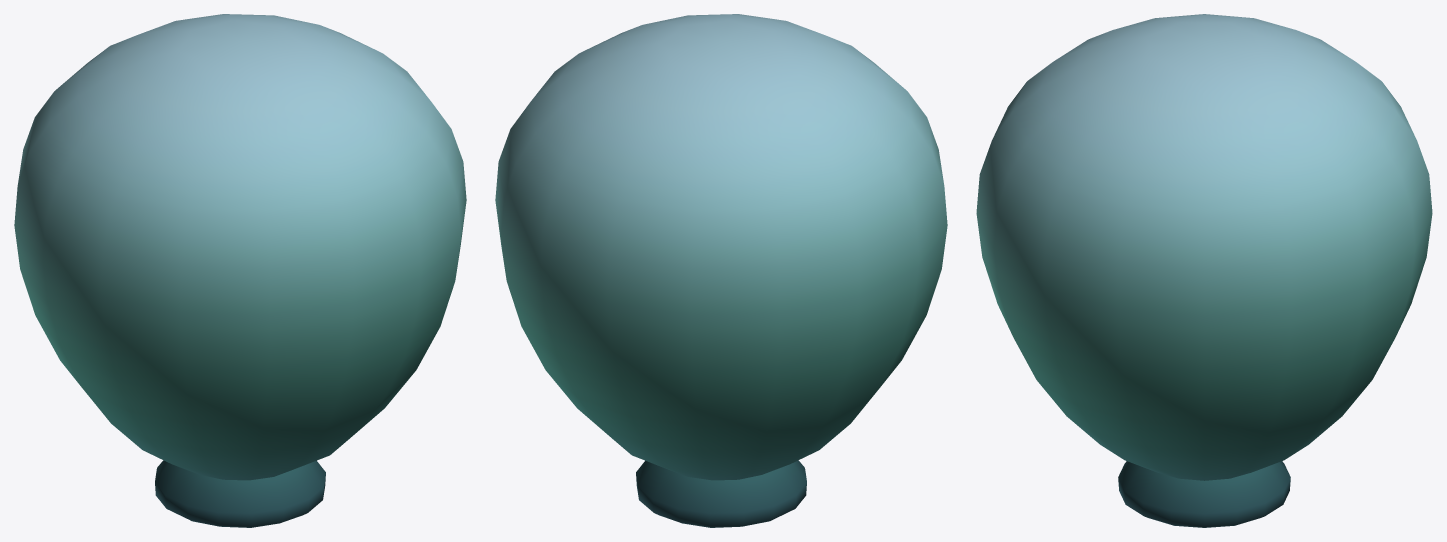
File: SM_Balloon_Green.fbx
The picture shows the model from 3 angles, left to right: view 1: azimuth 30°, elevation 25°; view 2: azimuth 150°, elevation 25°; view 3: azimuth 270°, elevation 25°; orthographic projection.
Parts seen in each view (by area): view 1: SM_Balloon_Green.001; view 2: SM_Balloon_Green.001; view 3: SM_Balloon_Green.001.
Boxes of the visible parts, <box> form: SM_Balloon_Green.001: <box>14,14,466,527</box>; SM_Balloon_Green.001: <box>495,14,947,527</box>; SM_Balloon_Green.001: <box>976,14,1432,527</box>.
Bounding box in the file's own units: 90.19 × 99.06 × 90.19.
